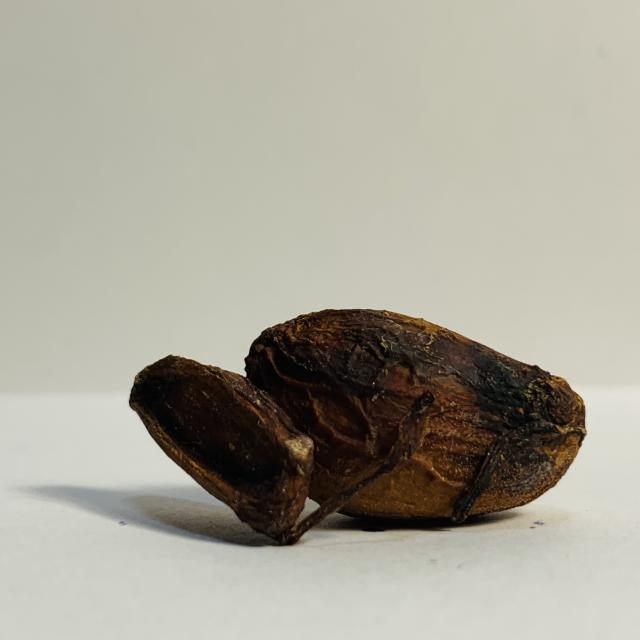Agglomerated_cocoabeans: (8, 244, 640, 570)
